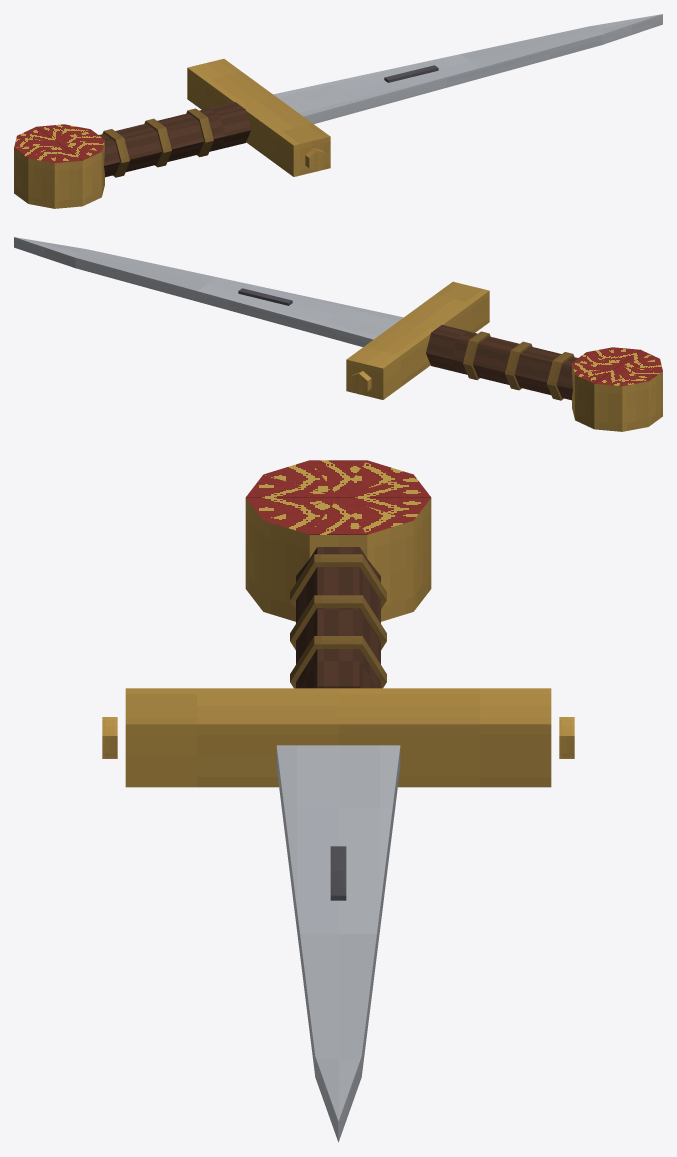
File: dagger-crested.glb
3 renders of one model, top to bottom at view 1: azimuth 30°, elevation 25°; view 2: azimuth 150°, elevation 25°; view 3: azimuth 270°, elevation 25°, orthographic. The views are drawn at different scales.
Visible parts, largest first — view 1: dagger-crested.001; view 2: dagger-crested.001; view 3: dagger-crested.001.
Boxes of the visible parts, left/top/right/bottom form: dagger-crested.001: left=14, top=14, right=662, bottom=208; dagger-crested.001: left=14, top=237, right=662, bottom=431; dagger-crested.001: left=102, top=460, right=574, bottom=1142.
Bounding box in the file's own units: 0.3828 × 0.026 × 0.122.
1 material, 1 textured.
